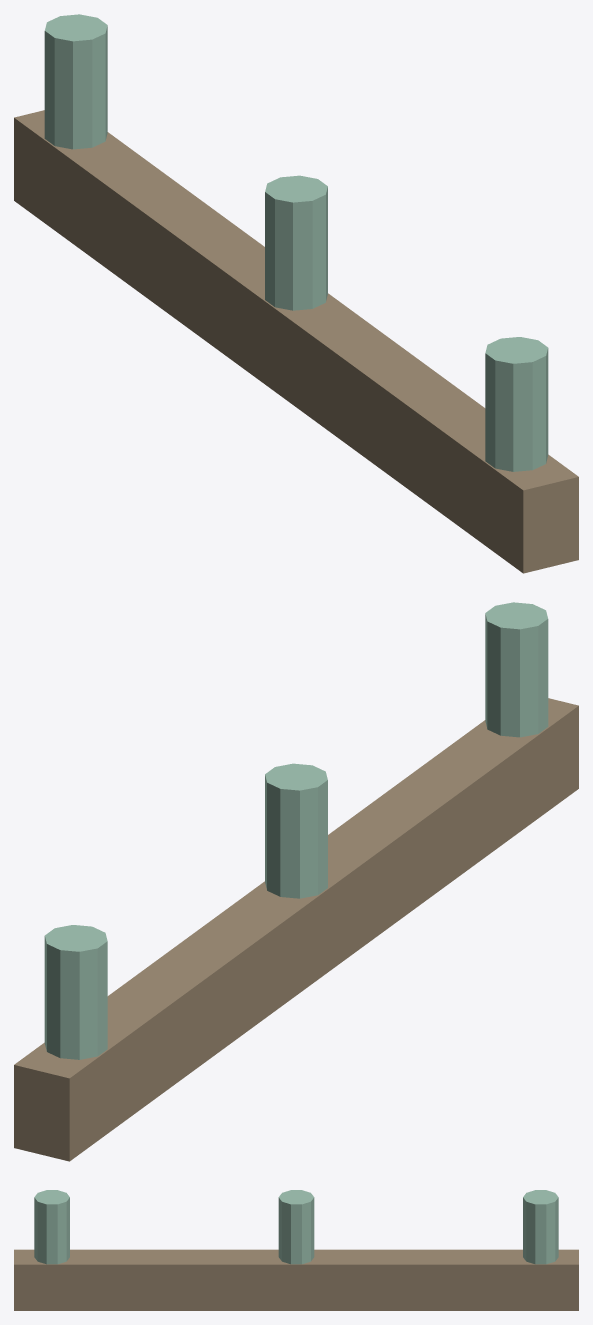
Rendered from dm_linecrossarm.glb.
The picture shows the model from 3 angles, top to bottom: view 1: azimuth 30°, elevation 25°; view 2: azimuth 150°, elevation 25°; view 3: azimuth 270°, elevation 25°; orthographic projection. The views are drawn at different scales.
Visible parts, largest first — view 1: dm_linecrossarm; view 2: dm_linecrossarm; view 3: dm_linecrossarm.
Part boxes in pixels (left/top/right/bottom): dm_linecrossarm: left=14, top=14, right=578, bottom=573; dm_linecrossarm: left=14, top=602, right=578, bottom=1161; dm_linecrossarm: left=14, top=1190, right=578, bottom=1310.
Bounding box in the file's own units: 0.07 × 0.23 × 1.11.
